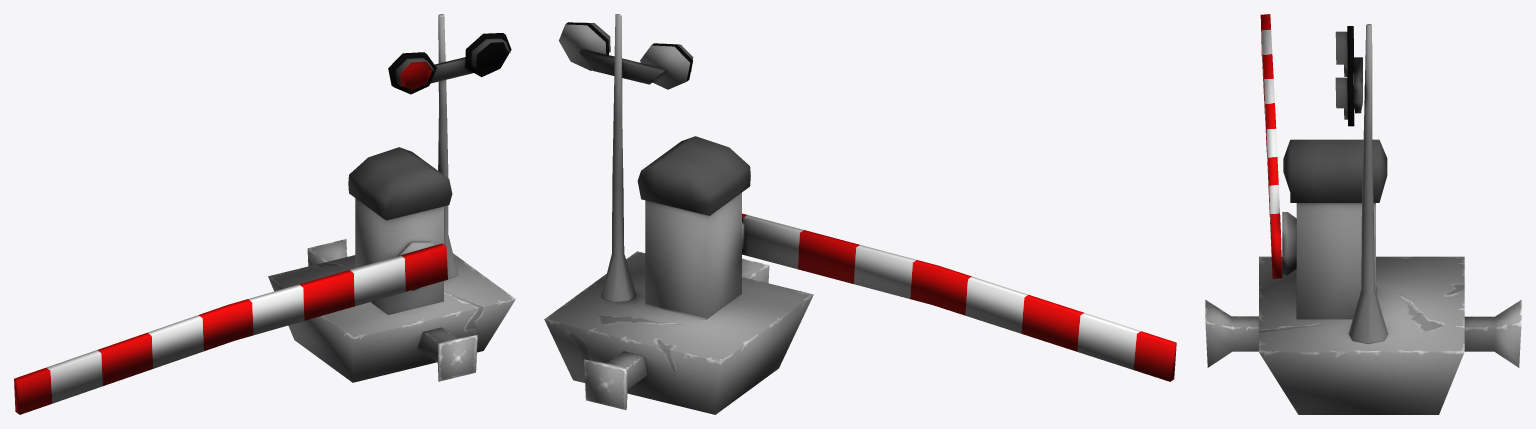
File: vagon_barrera.FBX
The picture shows the model from 3 angles, left to right: view 1: azimuth 30°, elevation 25°; view 2: azimuth 150°, elevation 25°; view 3: azimuth 270°, elevation 25°; orthographic projection. The views are drawn at different scales.
Visible parts, largest first — view 1: Object009, Object010; view 2: Object009, Object010; view 3: Object009, Object010.
Part boxes in pixels (left/top/right/bottom): Object009: left=268, top=14, right=515, bottom=382; Object010: left=14, top=243, right=447, bottom=414; Object009: left=544, top=14, right=813, bottom=414; Object010: left=742, top=213, right=1176, bottom=381; Object009: left=1205, top=24, right=1521, bottom=414; Object010: left=1260, top=14, right=1282, bottom=278.
Bounding box in the file's own units: 15.73 × 9.01 × 6.75.
Materials: 1 (1 with a texture image).
